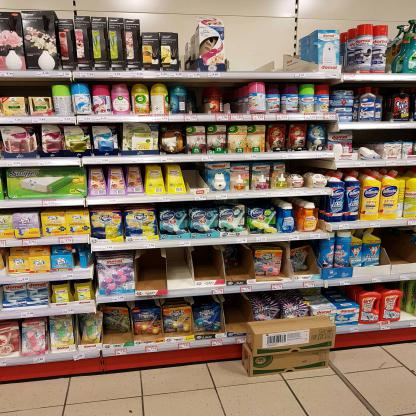Void: (226, 22, 308, 73), (138, 251, 247, 286), (390, 230, 412, 265), (0, 81, 50, 95), (230, 297, 252, 326), (226, 84, 247, 112), (190, 84, 206, 112), (292, 160, 326, 172), (189, 166, 204, 182)
